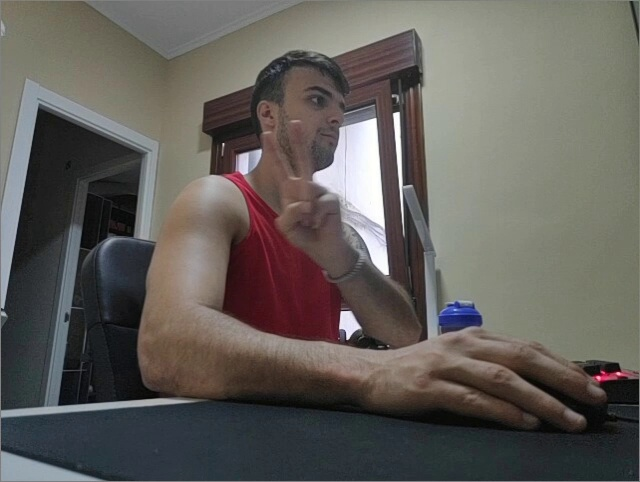Peace: (260, 118, 345, 252)
